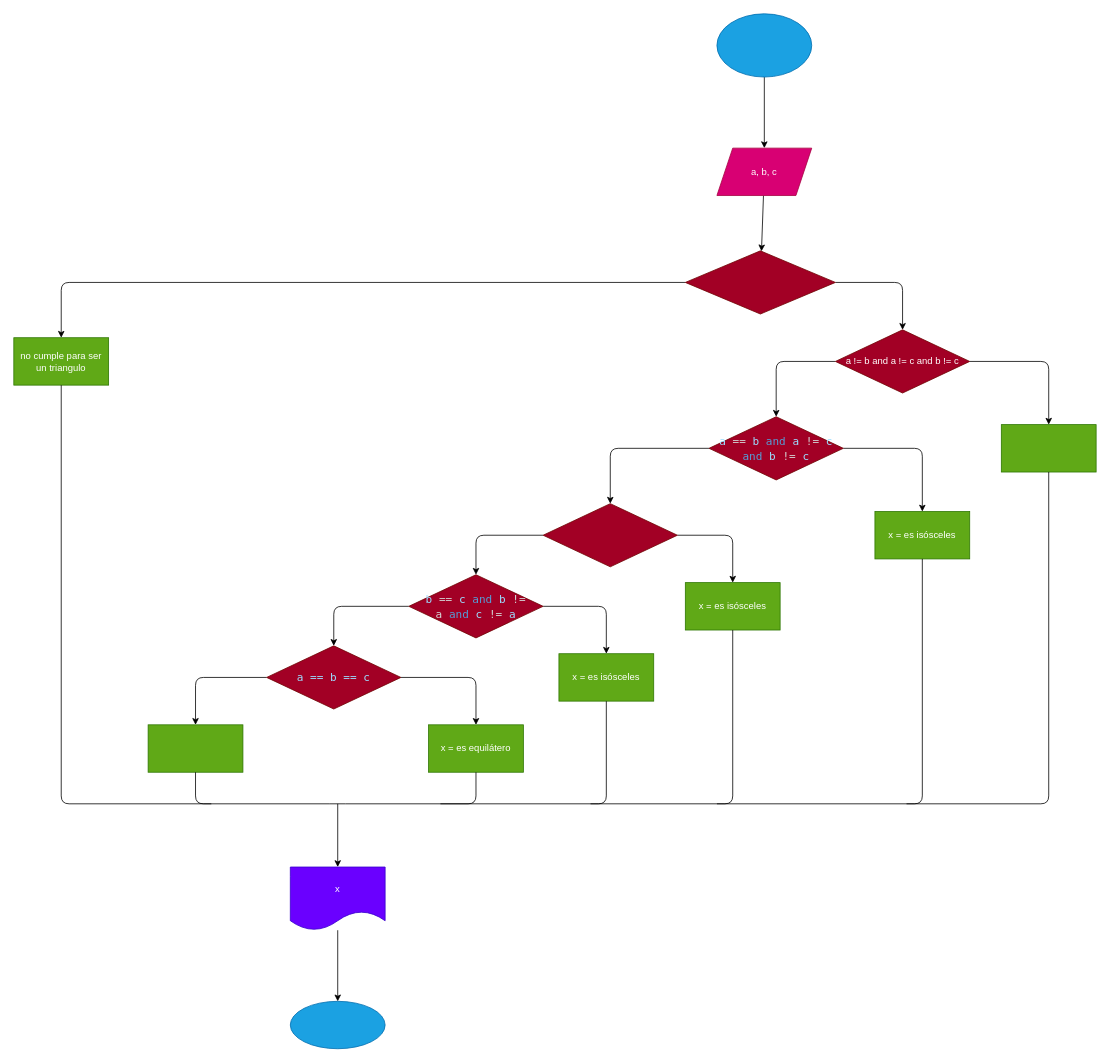
Image size: 1110x1063. Some labels were removed from this diagram. Here are the shapes that lost their labels. From the top down, the centre of each, then its label:
point (764, 45): INICIO
point (760, 282): a+b>c and a+c>b and b+c>a
point (1048, 448): x = es escaleno
point (609, 535): a == c and a != b and c != b
point (195, 748): x = no cumple para ser tríangulo
point (337, 1025): FIN
